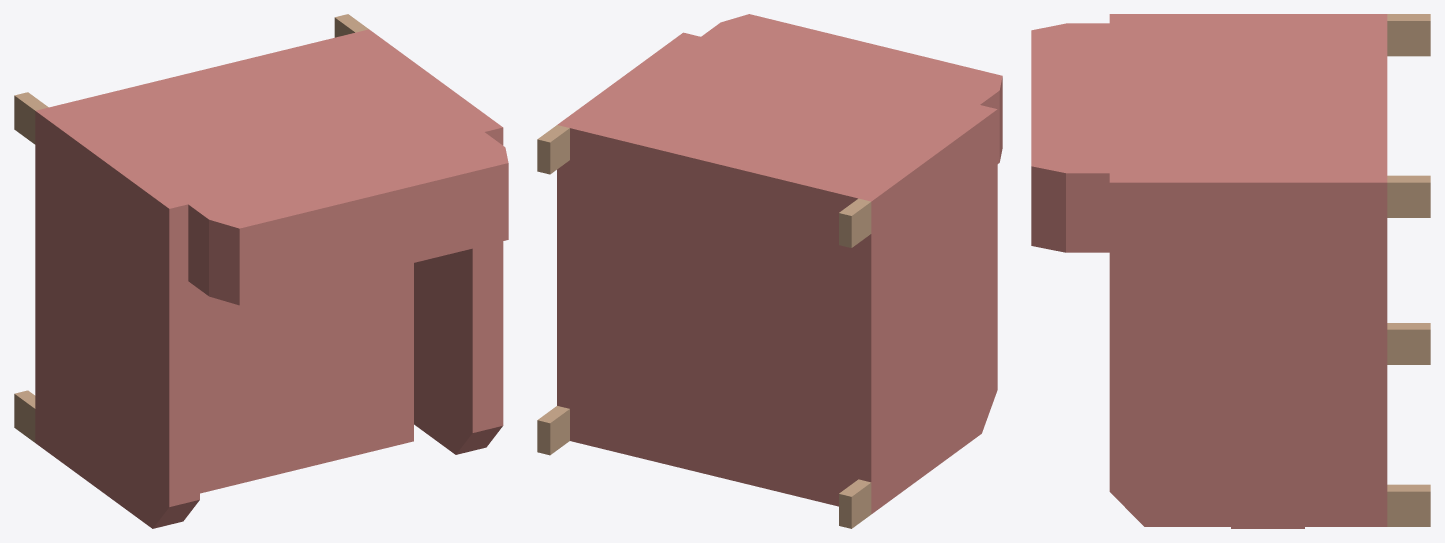
Rendered from sofa.glb.
3 views of the same model, side by side, from view 1: azimuth 30°, elevation 25°; view 2: azimuth 150°, elevation 25°; view 3: azimuth 270°, elevation 25° (orthographic). The views are drawn at different scales.
Parts seen in each view (by area): view 1: furniture/sofa; view 2: furniture/sofa; view 3: furniture/sofa.
Part boxes in pixels (left/top/right/bottom): furniture/sofa: left=14, top=14, right=508, bottom=528; furniture/sofa: left=537, top=14, right=1002, bottom=528; furniture/sofa: left=1031, top=14, right=1430, bottom=528.
Size of the model in its own units: 1 by 1 by 1.
